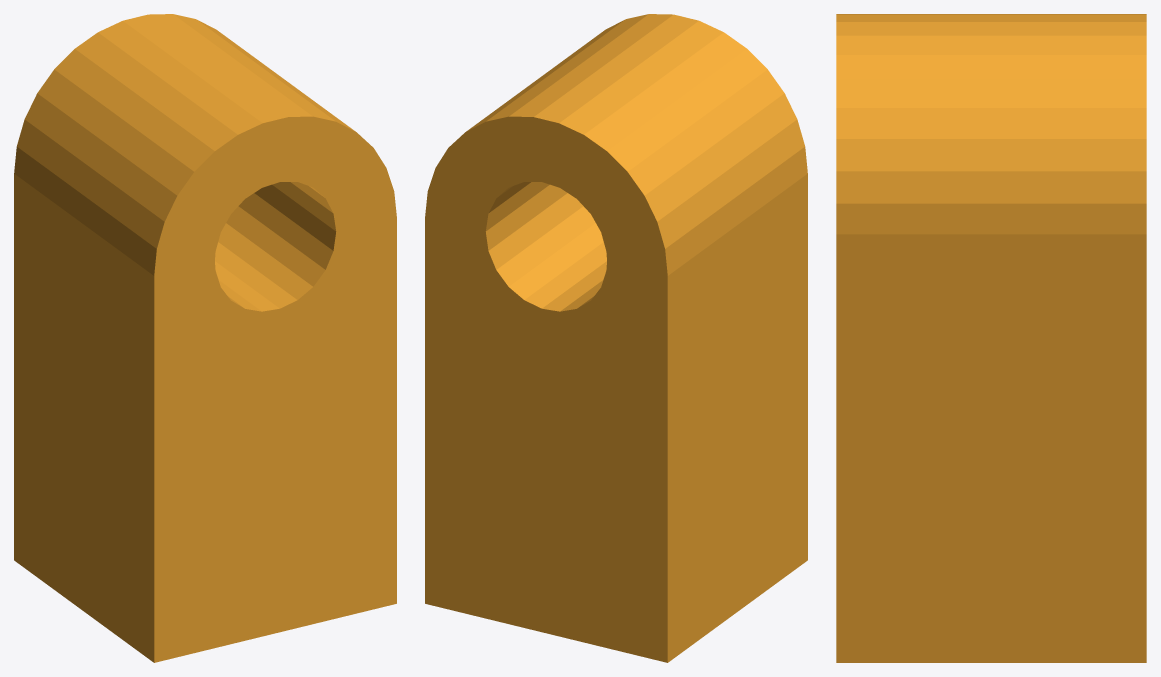
3 views of the same model, side by side, from view 1: azimuth 30°, elevation 25°; view 2: azimuth 150°, elevation 25°; view 3: azimuth 270°, elevation 25° (orthographic). The views are drawn at different scales.
Parts seen in each view (by area): view 1: link_1; view 2: link_1; view 3: link_1.
Boxes of the visible parts, x1=… form: link_1: x1=14, y1=14, x2=396, y2=662; link_1: x1=425, y1=14, x2=807, y2=662; link_1: x1=836, y1=14, x2=1146, y2=662.
Bounding box in the file's own units: 0.08 × 0.08 × 0.1617.
